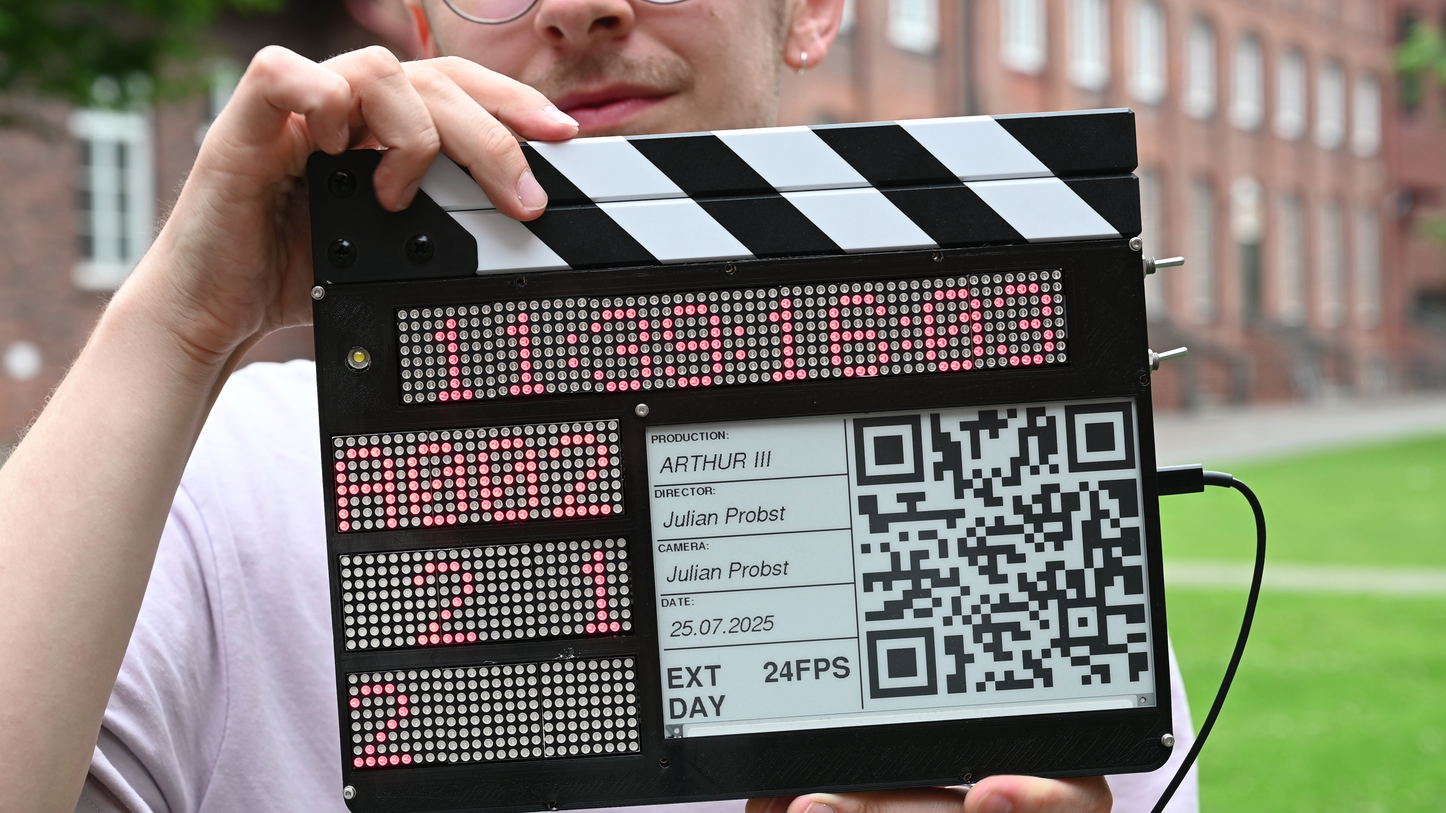ARC-SLATE: (309, 175, 1175, 813)
